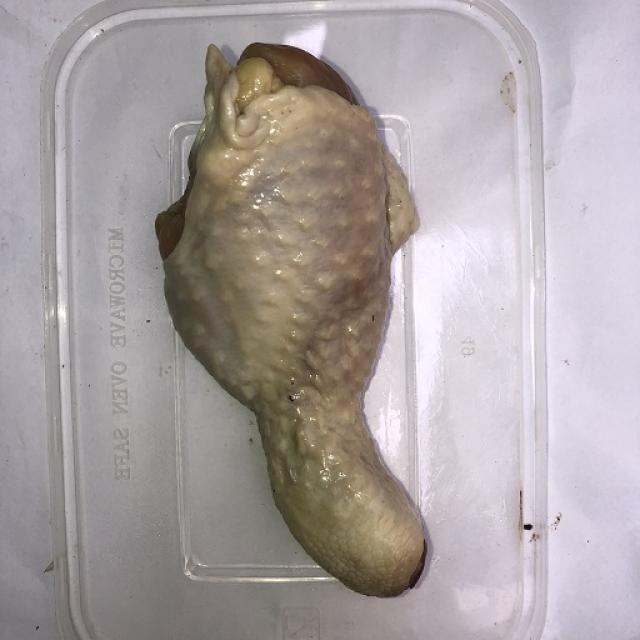chicken: (154, 40, 428, 598)
